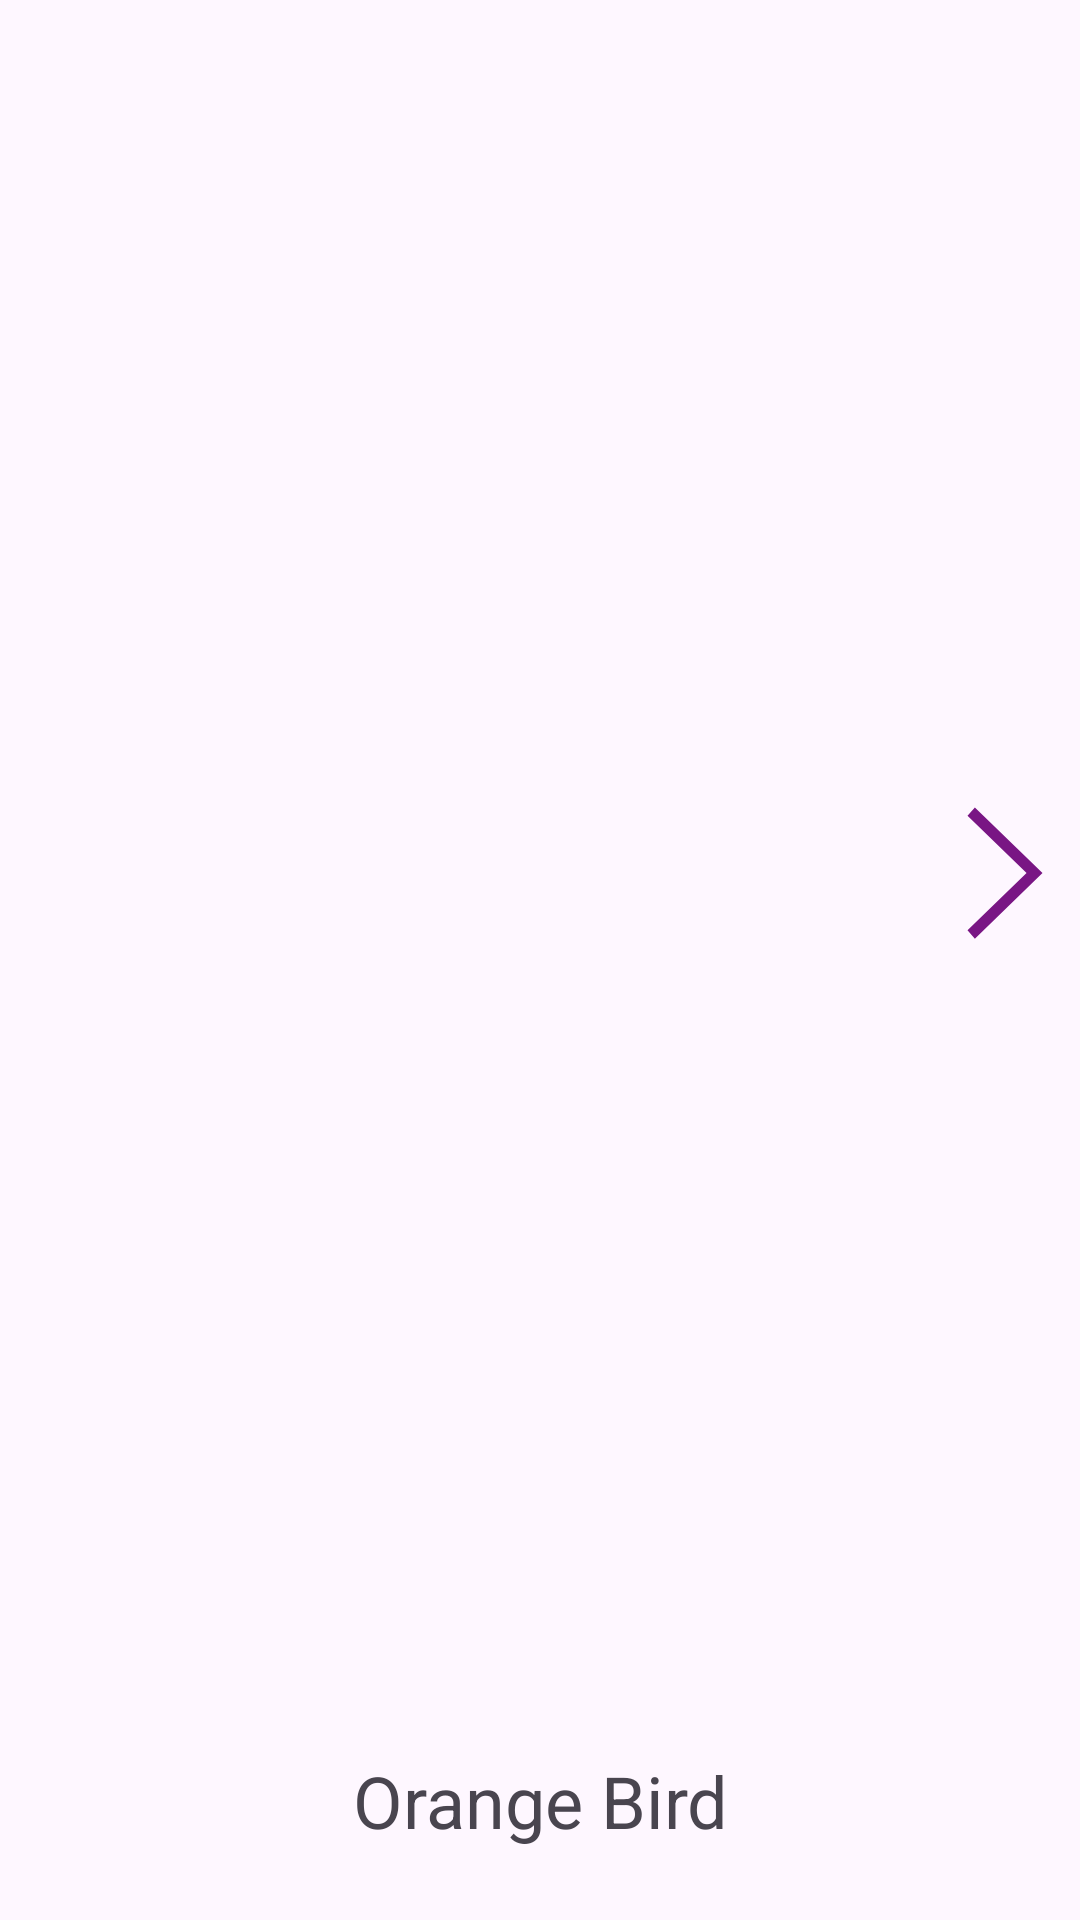

Named icons in this screenshot (1080 × 1920) and their centers, [x,y]:
right arrow backup: [1005,873]
